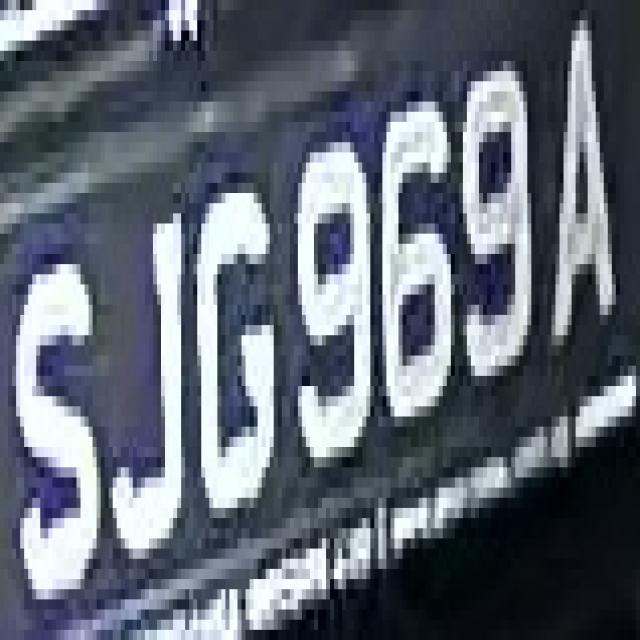6: (366, 51, 467, 477)
9: (451, 61, 547, 386), (286, 142, 374, 478)
A: (543, 20, 628, 366)
G: (181, 163, 282, 528)
J: (109, 142, 201, 569)
S: (20, 223, 109, 630)
